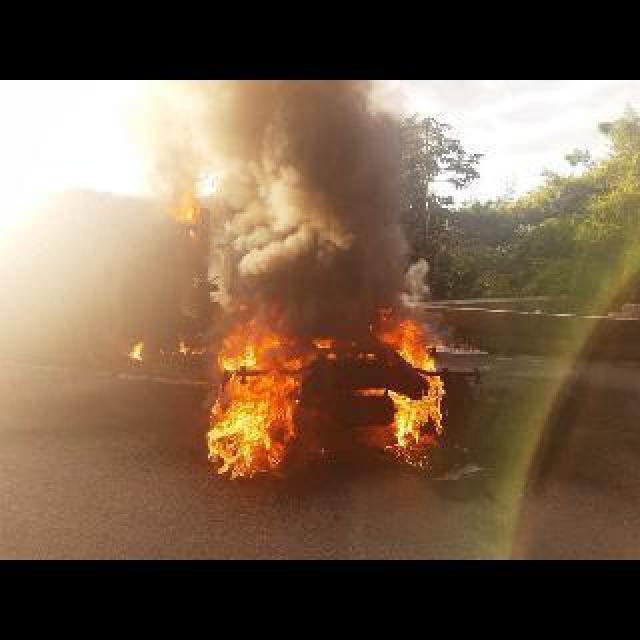Fire: (206, 308, 448, 478)
Smoke: (142, 79, 434, 308)
